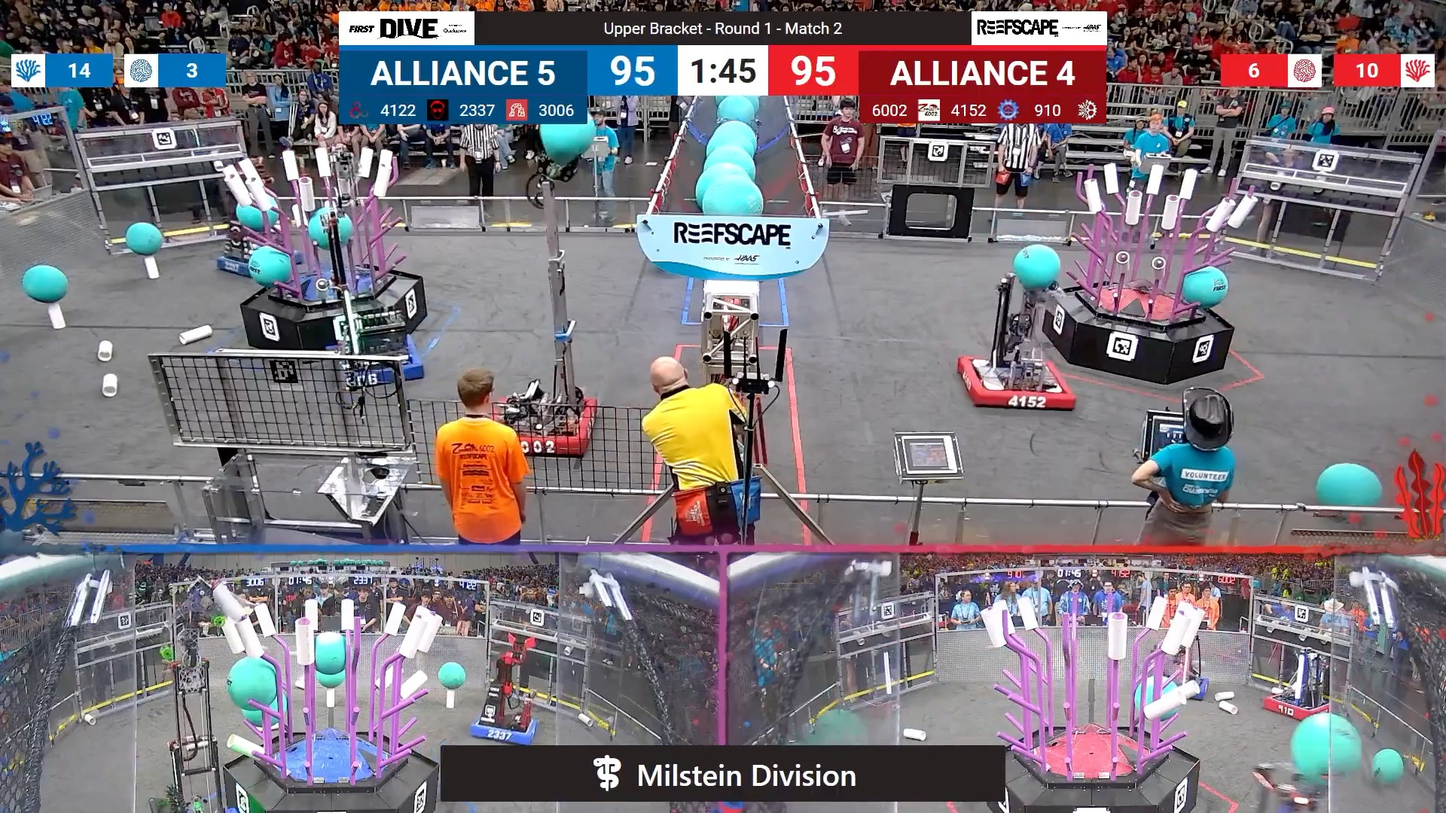bumpers: (952, 353, 1082, 419), (485, 394, 604, 458), (322, 336, 429, 388), (464, 710, 547, 748), (1257, 690, 1338, 720), (212, 247, 275, 279)
